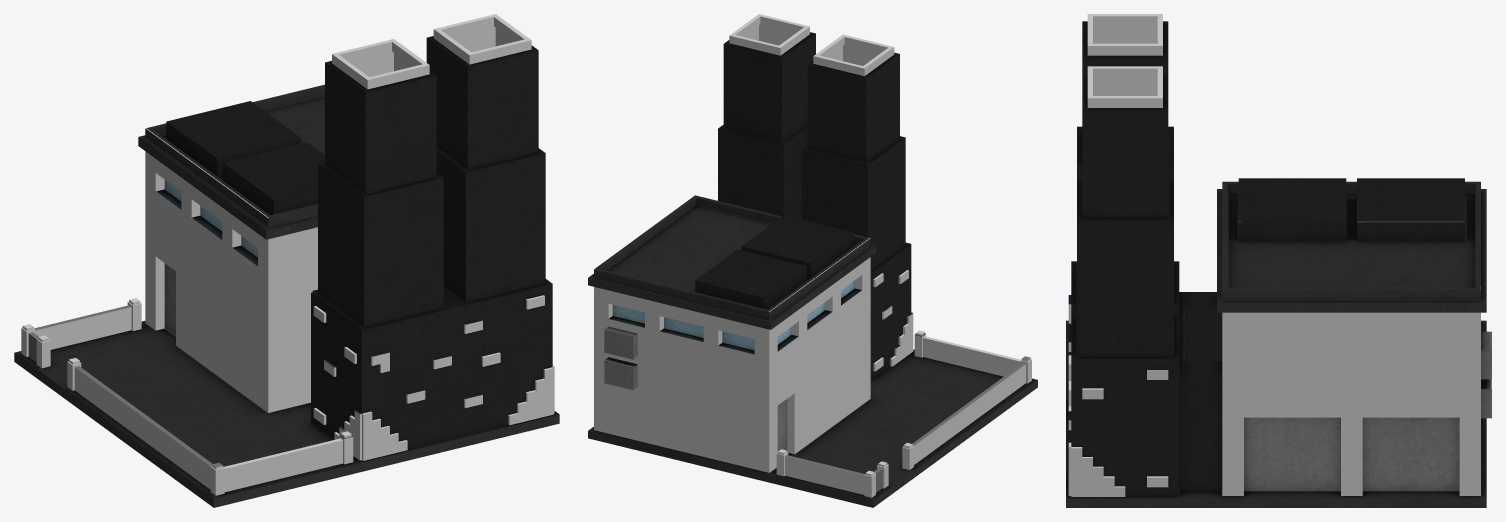
The model's file is FabricaVidrio.fbx.
The picture shows the model from 3 angles, left to right: view 1: azimuth 30°, elevation 25°; view 2: azimuth 150°, elevation 25°; view 3: azimuth 270°, elevation 25°; orthographic projection. The views are drawn at different scales.
Parts seen in each view (by area): view 1: VTP_Factory; view 2: VTP_Factory; view 3: VTP_Factory.
Part boxes in pixels (x1,y1,x2,y2): VTP_Factory: (14, 14, 559, 507); VTP_Factory: (588, 14, 1037, 507); VTP_Factory: (1066, 14, 1491, 507).
Size of the model in its own units: 7800 by 8200 by 7900.
2 materials, 1 textured.
